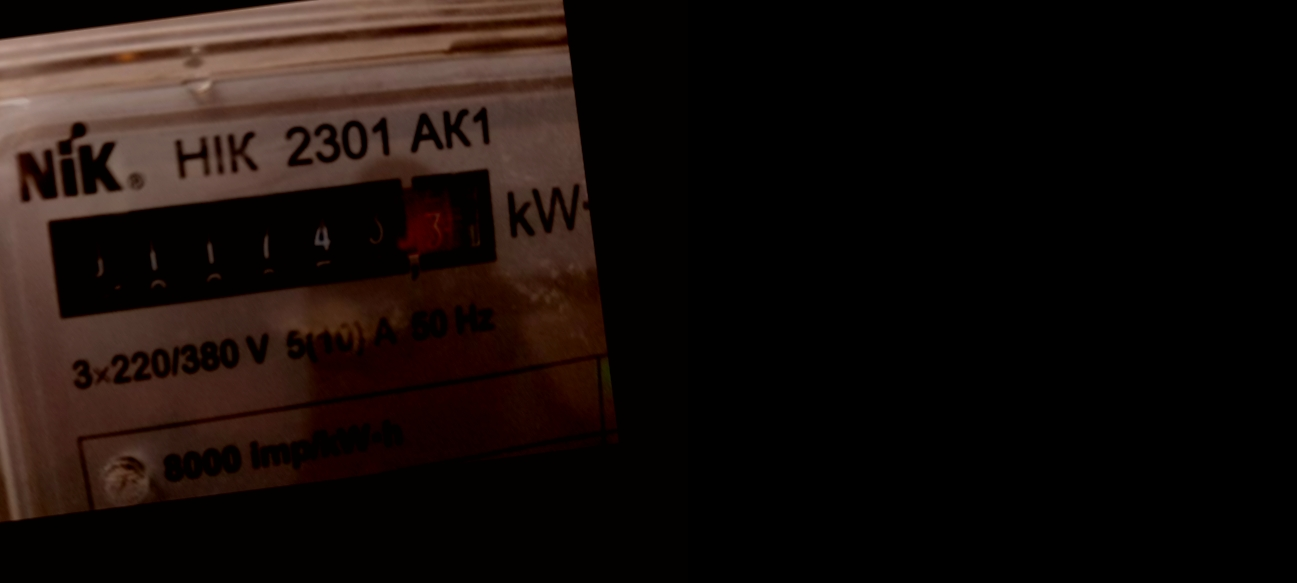0: (75, 231, 110, 281)
1: (194, 218, 221, 268), (139, 225, 162, 275)
3: (357, 198, 391, 248), (418, 205, 448, 252)
4: (303, 204, 337, 255)
7: (250, 212, 280, 263)
screen: (30, 153, 507, 329)
